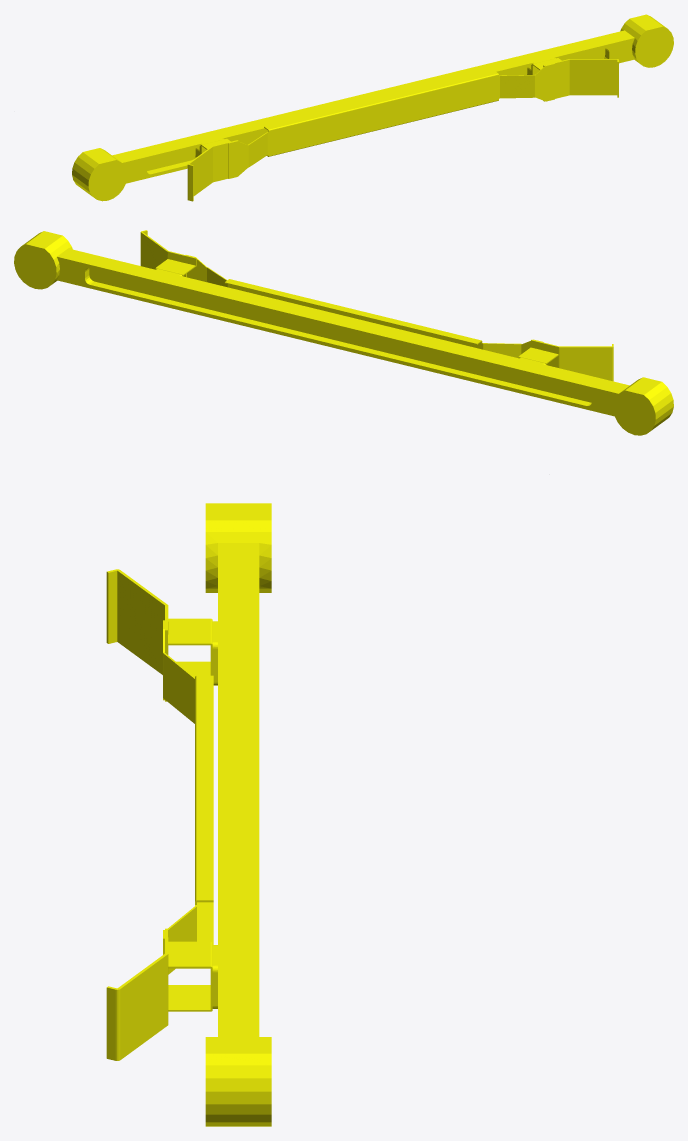
3 views of the same model, one above another, from view 1: azimuth 30°, elevation 25°; view 2: azimuth 150°, elevation 25°; view 3: azimuth 270°, elevation 25° (orthographic). The views are drawn at different scales.
Visible parts, largest first — view 1: node; view 2: node; view 3: node.
Boxes of the visible parts, box(x1,y1,x2,y2) form: node: box(72, 14, 673, 201); node: box(14, 230, 673, 435); node: box(106, 503, 271, 1126).
Size of the model in its own units: 1307 by 82.5 by 458.
